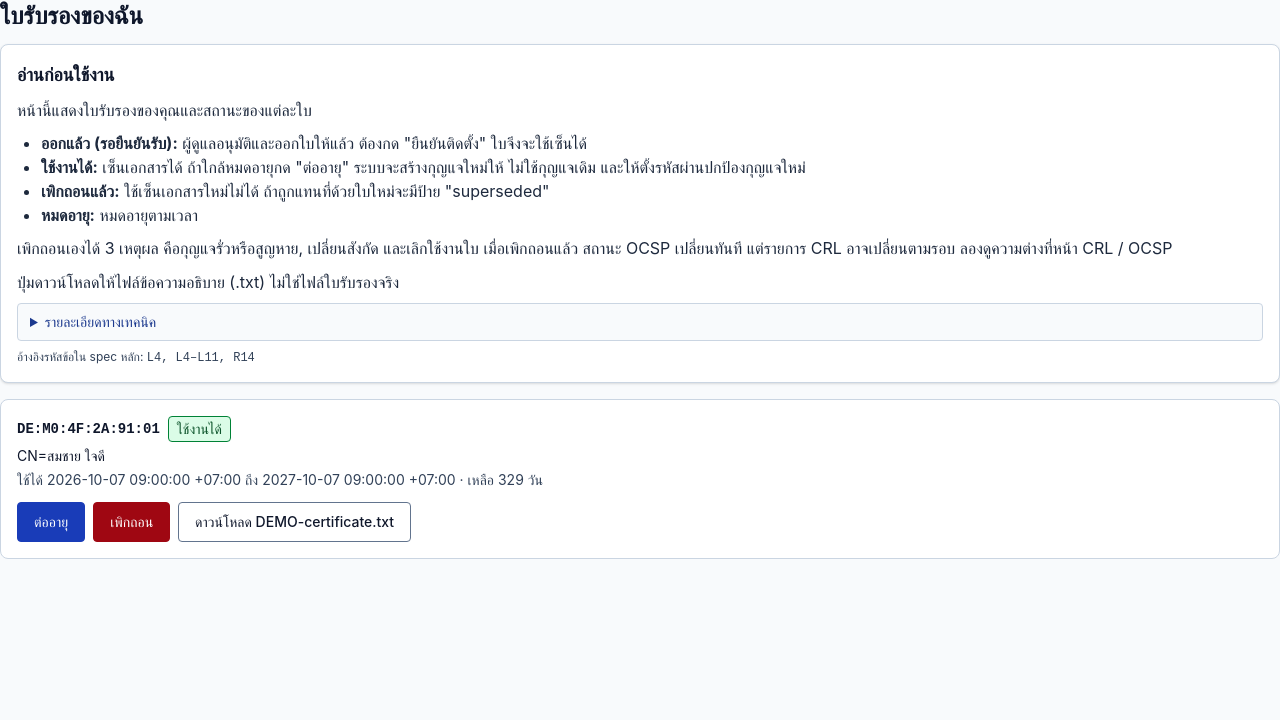
Test: /certs › shows the problem inside the dialog when revocation fails
This screenshot has width=1280, height=720.
Click the button "เพิกถอน" at point(132, 522), box [93, 502, 170, 542]
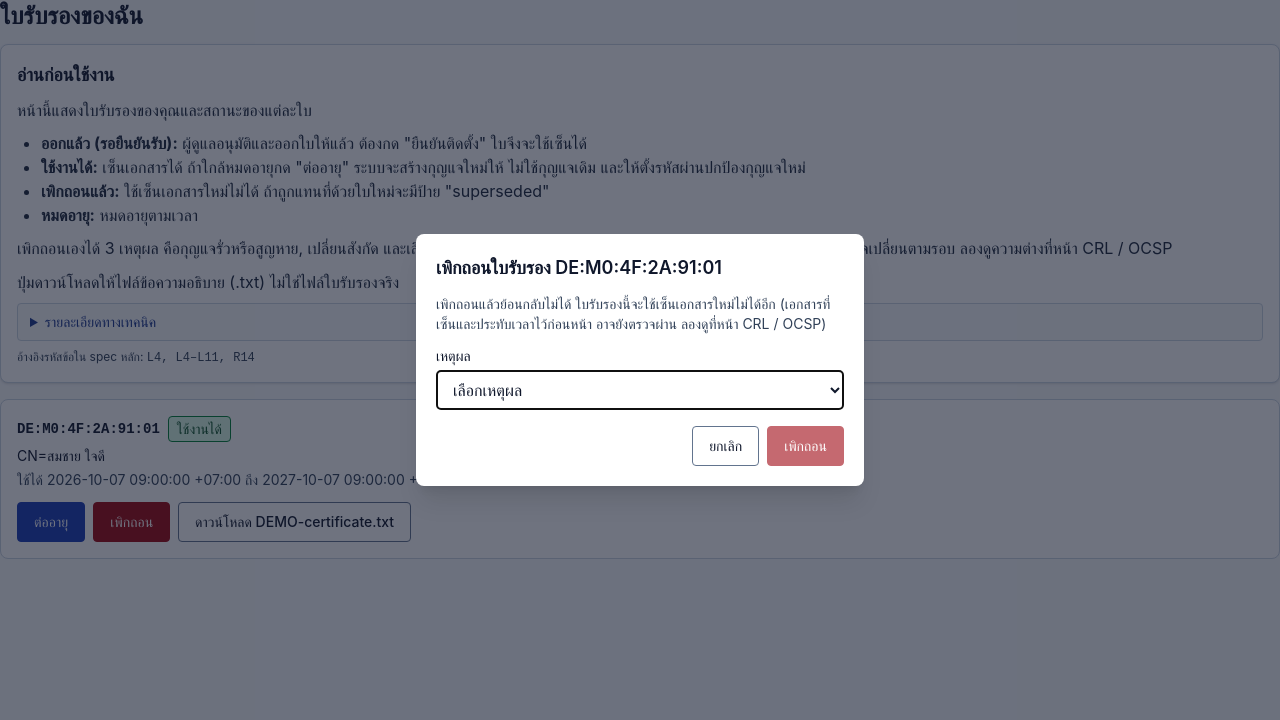
Select "กุญแจส่วนตัวรั่วไหลหรือสูญหาย (keyCompromise)" in the dropdown with test id "certs-revoke-reason" at point(640, 390), box [436, 370, 844, 410]
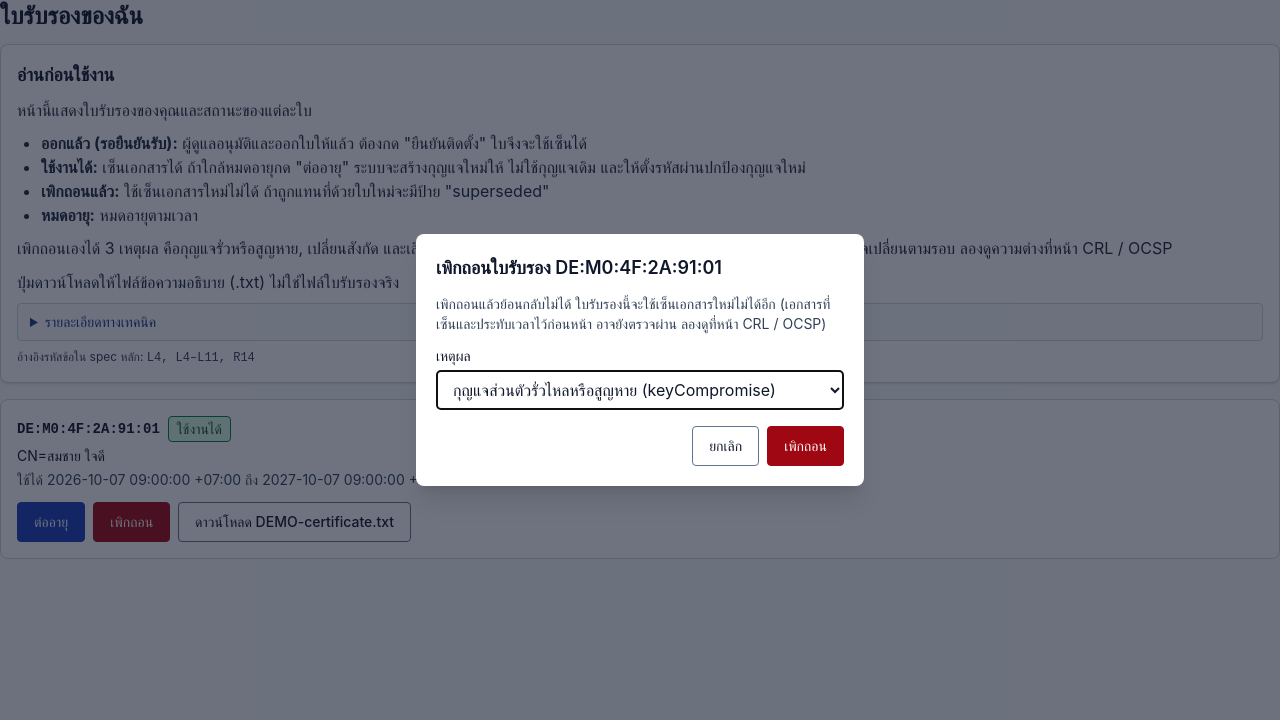
Click the button with test id "certs-revoke-submit" at point(806, 446), box [767, 426, 844, 466]
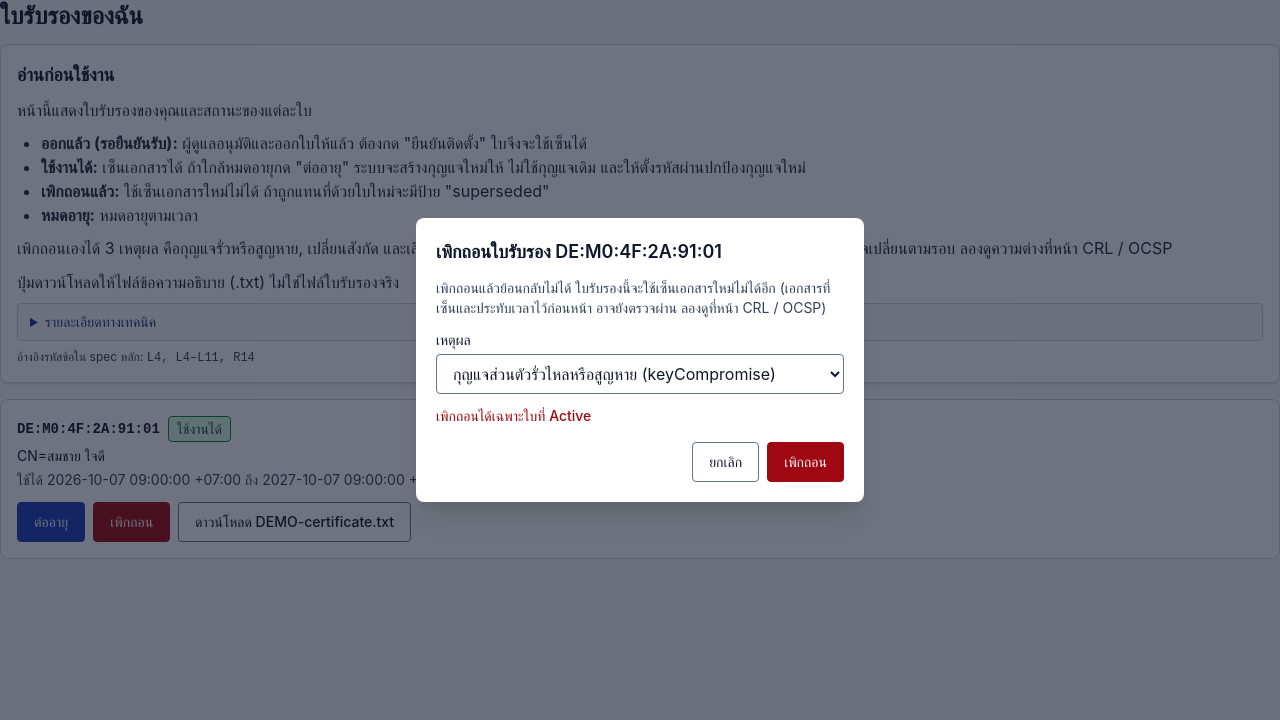
Now the text "เพิกถอนได้เฉพาะใบที่ Active" is shown, box [436, 407, 591, 424]
